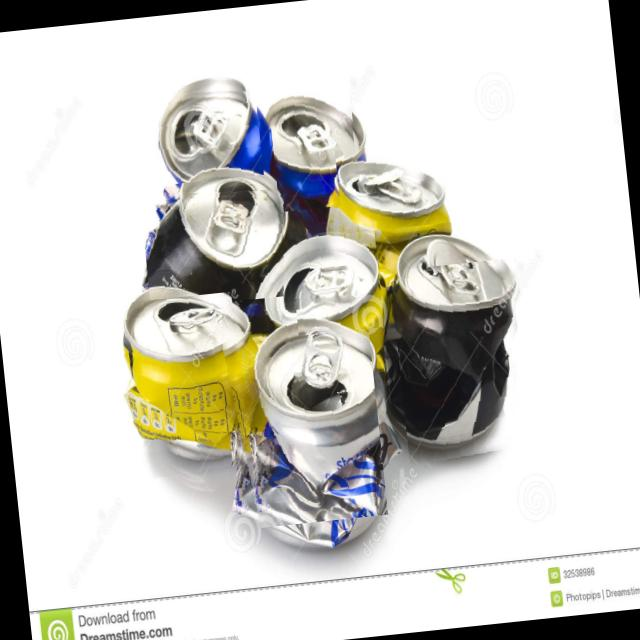Cans: (215, 293, 388, 530), (389, 258, 537, 467), (109, 291, 249, 482), (139, 180, 294, 310), (136, 81, 264, 187), (266, 74, 362, 212), (334, 135, 459, 233), (287, 222, 384, 336)
